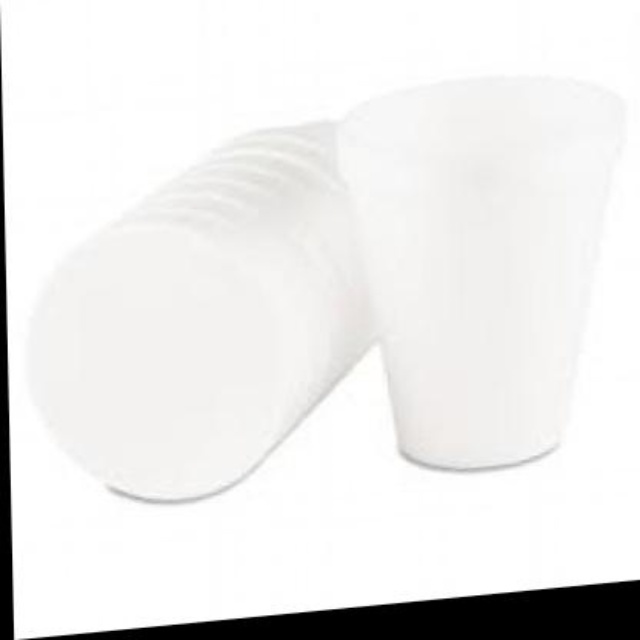trash: (34, 78, 622, 500), (338, 78, 622, 468)
